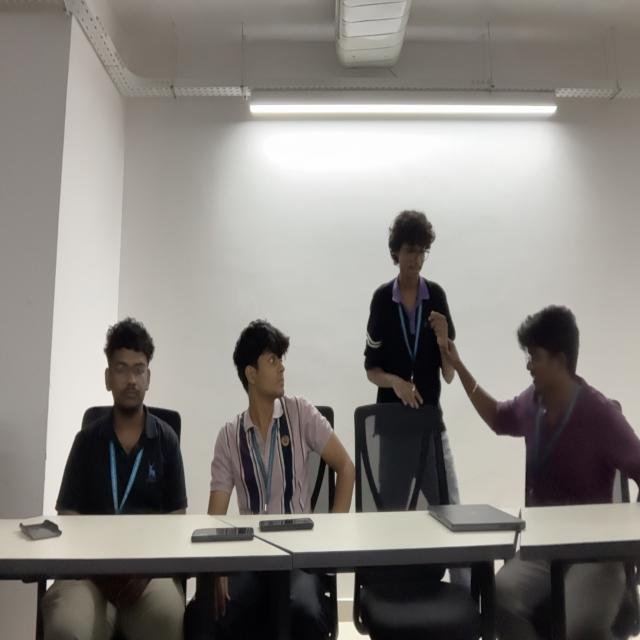Isolated: (209, 319, 355, 513), (55, 318, 189, 514)
socializing: (365, 212, 637, 504)
